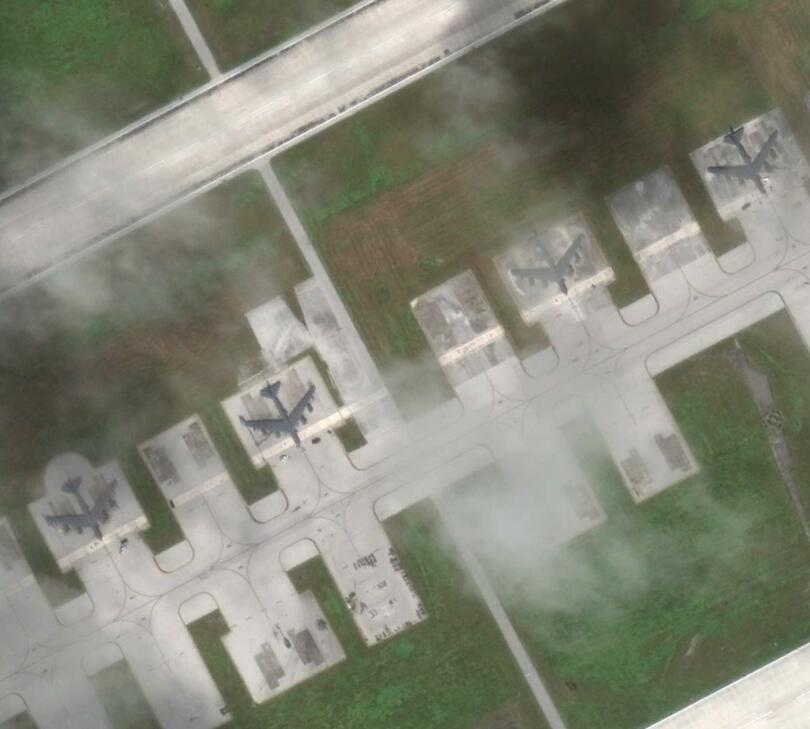A8: (705, 122, 784, 200), (509, 229, 594, 298), (240, 379, 320, 448), (43, 477, 125, 543)
